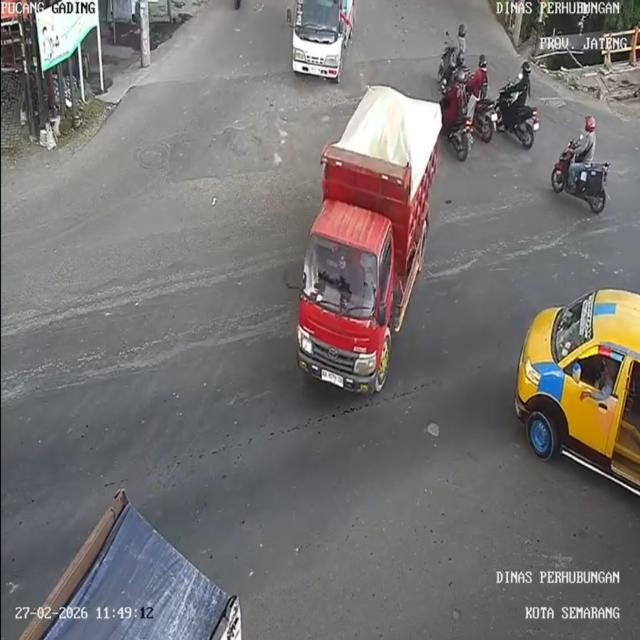motorcycle: (550, 136, 610, 215), (497, 87, 543, 152), (449, 114, 476, 165), (478, 95, 498, 146), (437, 43, 454, 81)
person: (568, 114, 597, 171), (506, 60, 532, 106), (475, 50, 495, 99), (452, 67, 470, 117), (452, 22, 469, 65)
rider_region: (550, 114, 610, 218), (495, 59, 541, 152), (440, 66, 474, 164), (469, 49, 498, 141), (437, 22, 468, 78)
